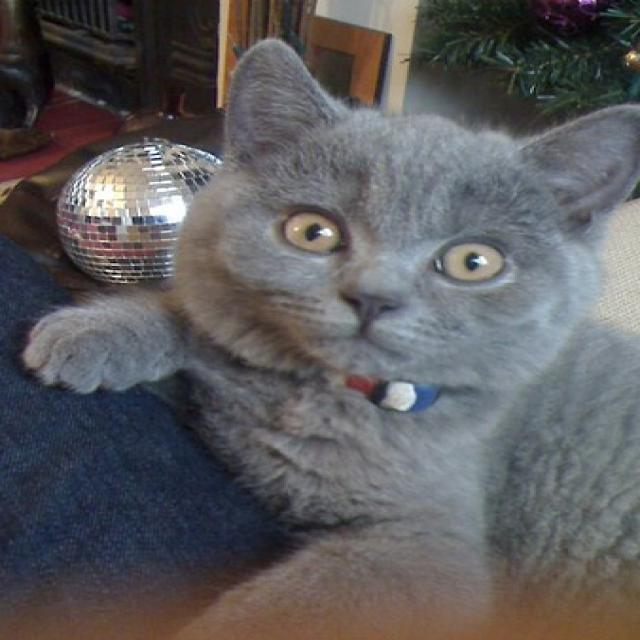British Shorthair: (13, 34, 640, 640)
